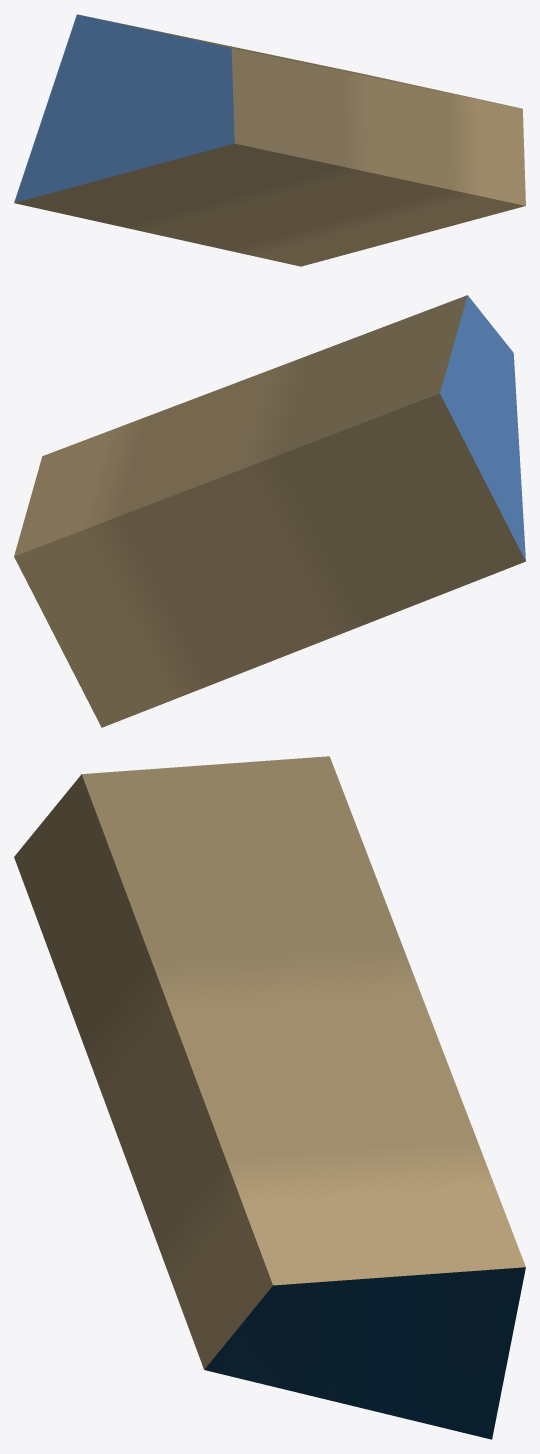
The model's file is 05e9_Dominican_Republic.glb.
3 renders of one model, top to bottom at view 1: azimuth 30°, elevation 25°; view 2: azimuth 150°, elevation 25°; view 3: azimuth 270°, elevation 25°, orthographic. The views are drawn at different scales.
Visible parts, largest first — view 1: part_0; view 2: part_0; view 3: part_0.
Part boxes in pixels (x1=…): part_0: x1=14, y1=14, x2=525, y2=266; part_0: x1=14, y1=295, x2=525, y2=727; part_0: x1=14, y1=756, x2=525, y2=1439.
Size of the model in its own units: 0.2342 by 0.1714 by 0.153.
Materials: 1 (1 with a texture image).
